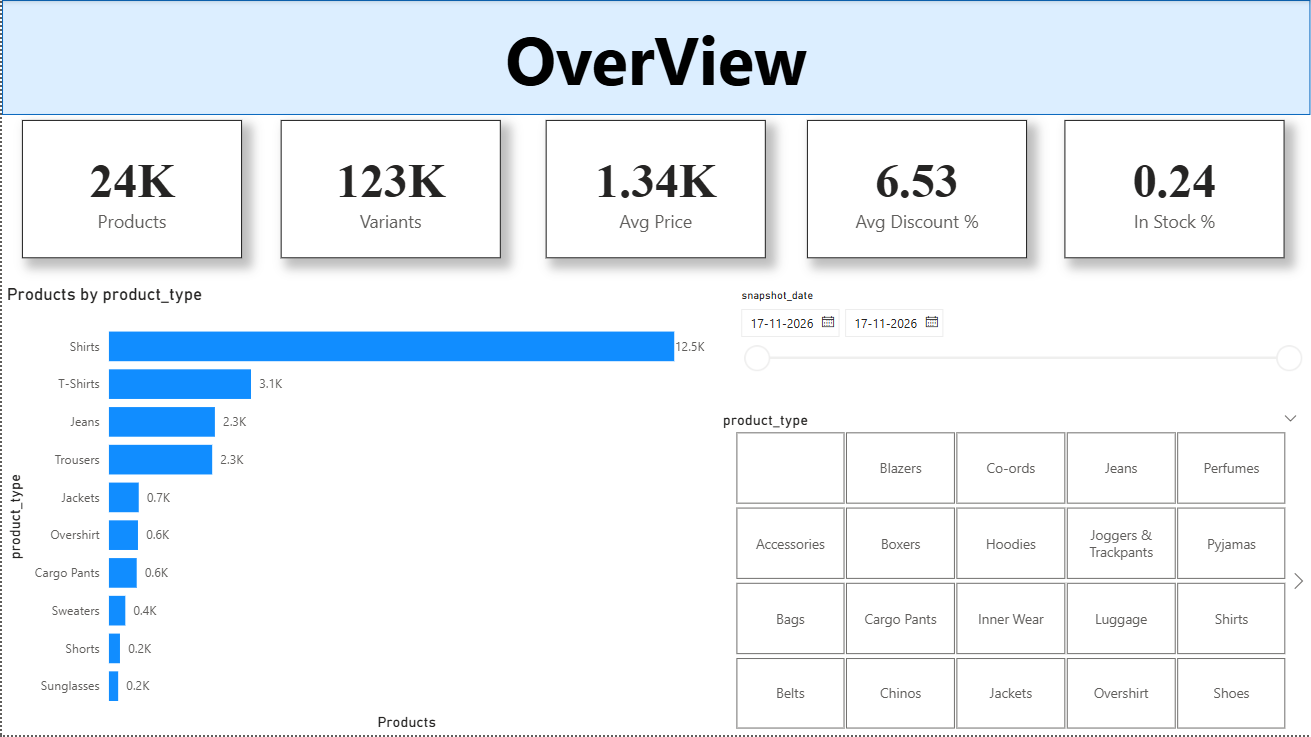

The page's visual inventory and layout, read from the dashboard file:
{"tool":"powerbi","page":{"name":"Overview","canvas":[1280,720],"ordinal":0},"visuals":[{"type":"card","fields":{"Values":["mart dim_product.Products"]},"box":[20,117.5,215,135],"z":0},{"type":"card","fields":{"Values":["mart dim_product.Variants"]},"box":[272.5,117.5,215,135],"z":1000},{"type":"card","fields":{"Values":["mart dim_product.Avg Price"]},"box":[532.5,117.5,215,135],"z":2000},{"type":"card","fields":{"Values":["mart dim_product.Avg Discount %"]},"box":[787.5,117.5,215,135],"z":3000},{"type":"card","fields":{"Values":["mart dim_product.In Stock %"]},"box":[1040,117.5,215,135],"z":4000},{"type":"shape","box":[0,0,1280,112.5],"z":5000},{"type":"barChart","fields":{"Category":["mart dim_product.product_type"],"Y":["mart dim_product.Products"]},"box":[0,277.5,692.5,442.5],"z":6000},{"type":"slicer","fields":{"Values":["mart dim_product.product_type"]},"box":[692.5,397.5,587.5,322.5],"z":7000},{"type":"slicer","fields":{"Values":["mart fact_variant_snapshot.snapshot_date"]},"box":[710,277.5,570,120],"z":8000}]}

Visuals, with their boxes in screenshot pixels (x1, y1, x2, y2), scaled from the page's 1280x720 canvas onto the 1311x737 screenshot:
card - mart dim_product.Products: BBox(20, 120, 241, 258)
card - mart dim_product.Variants: BBox(279, 120, 499, 258)
card - mart dim_product.Avg Price: BBox(545, 120, 766, 258)
card - mart dim_product.Avg Discount %: BBox(807, 120, 1027, 258)
card - mart dim_product.In Stock %: BBox(1065, 120, 1285, 258)
shape: BBox(0, 0, 1310, 115)
barChart - mart dim_product.product_type x mart dim_product.Products: BBox(0, 284, 709, 736)
slicer - mart dim_product.product_type: BBox(709, 407, 1310, 736)
slicer - mart fact_variant_snapshot.snapshot_date: BBox(727, 284, 1310, 407)
